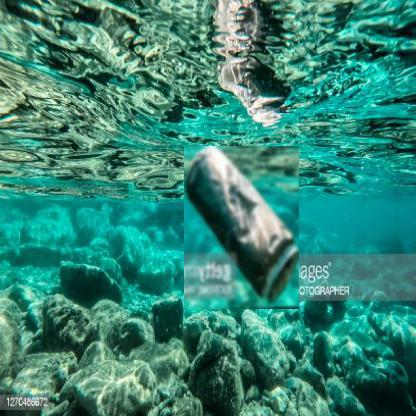can: (184, 146, 300, 310)
